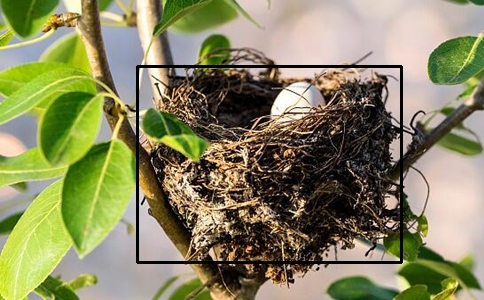bird-nest: (137, 66, 401, 262)
